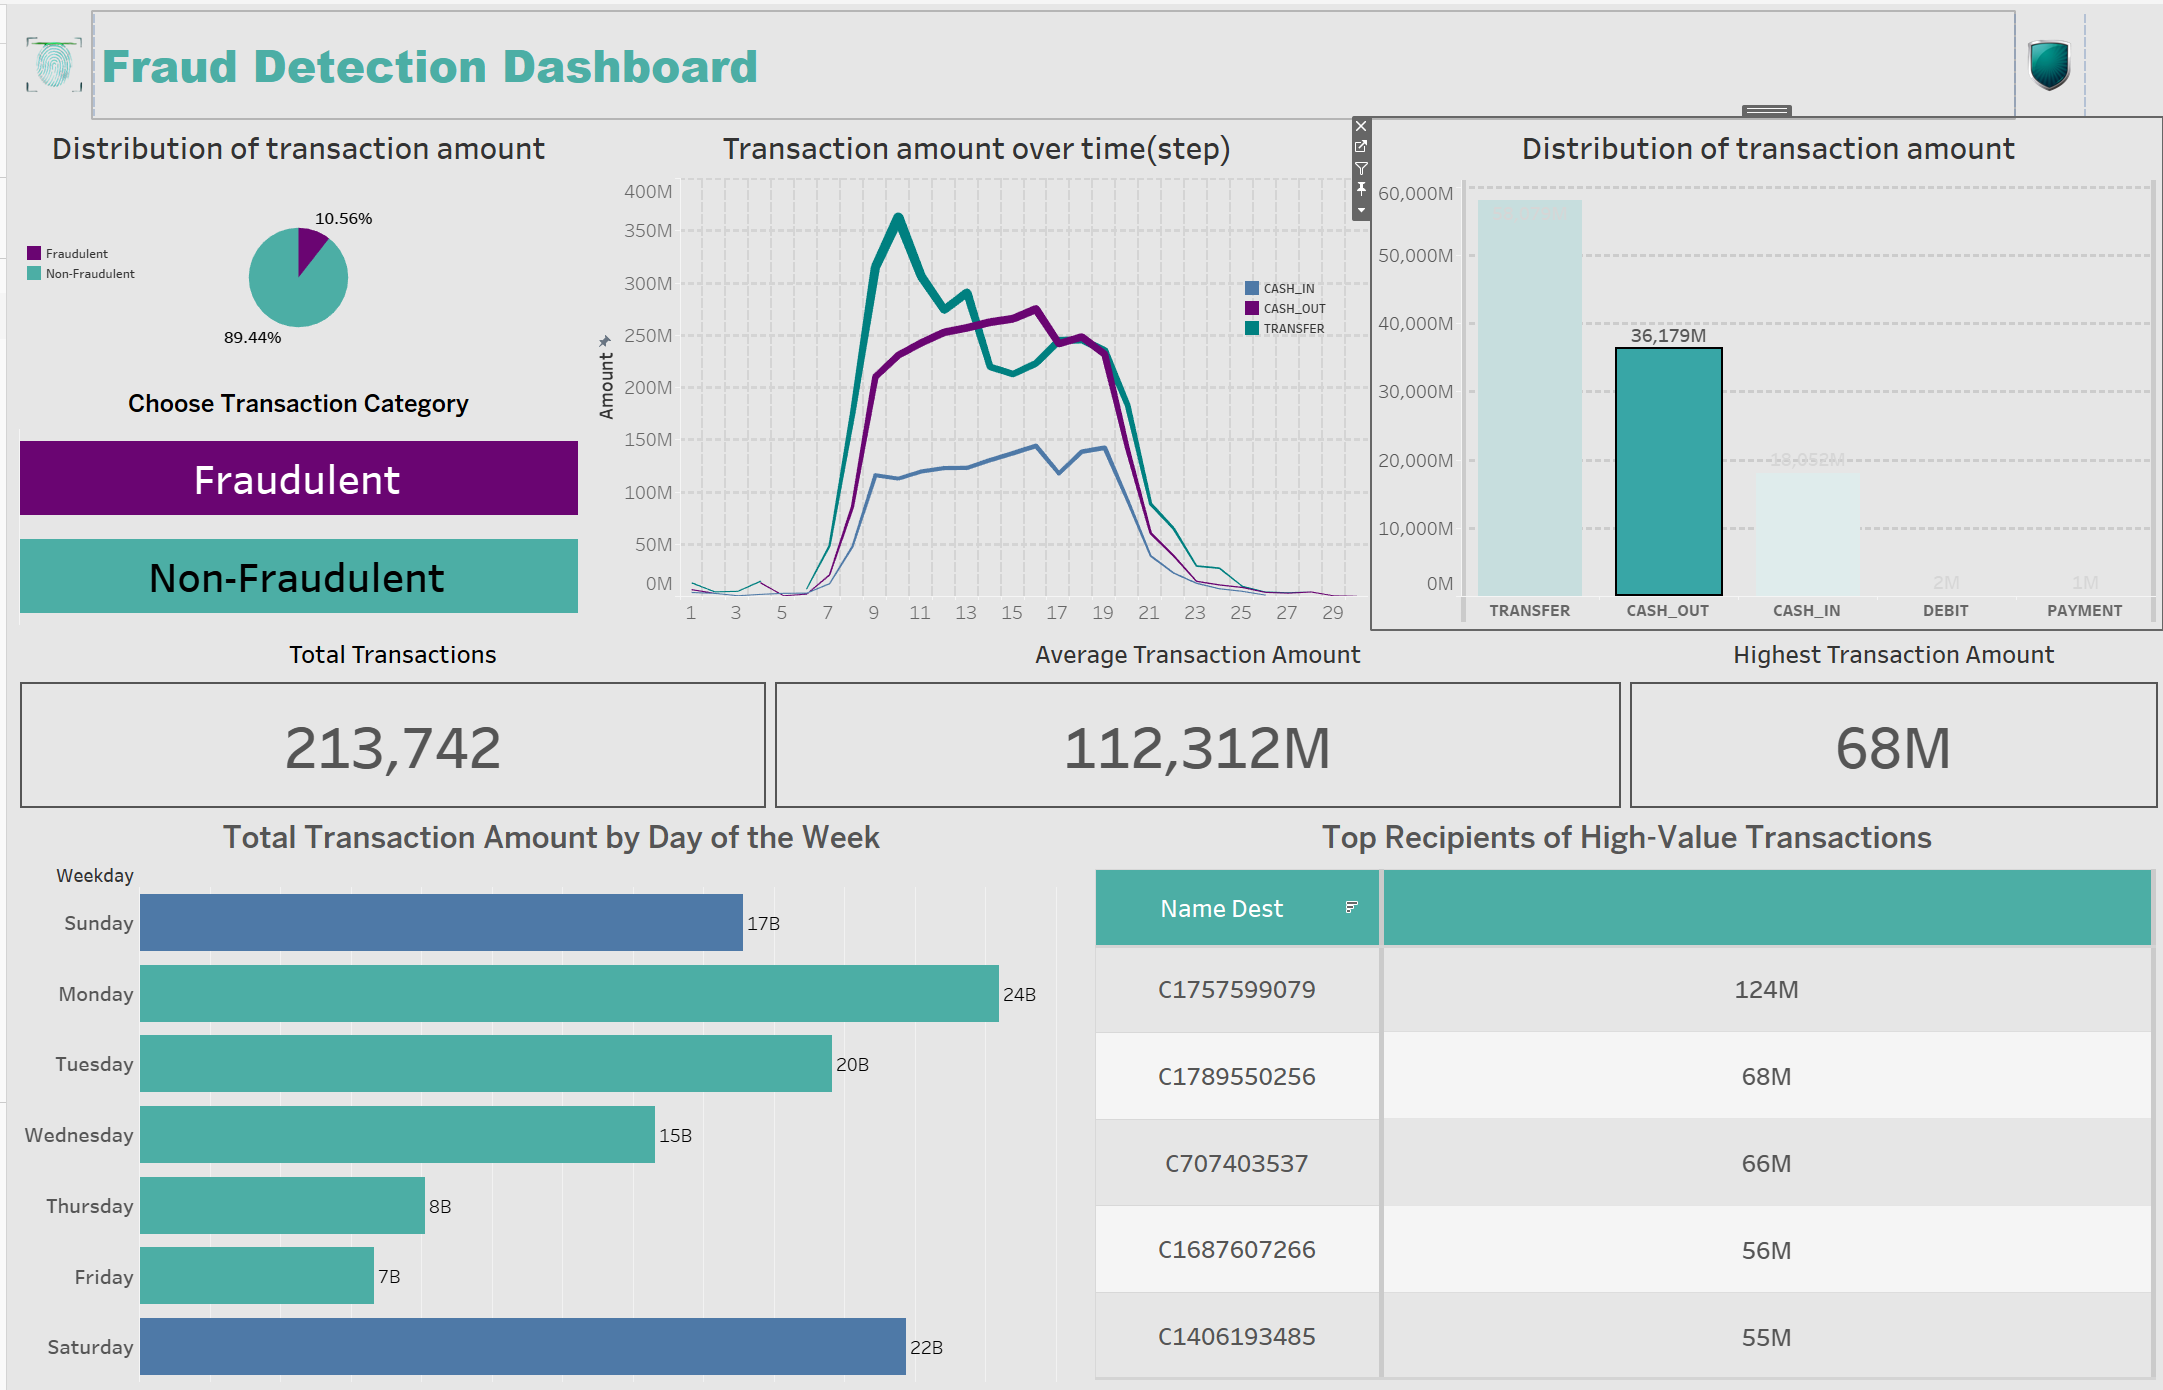

The page's visual inventory and layout, read from the dashboard file:
{"tool":"tableau","page":{"name":"Dashboard 1","canvas":[1000,1000],"units":"permille","ordinal":0},"visuals":[{"type":"image","param":"C:/Users/shaza/Downloads/download-removebg-preview.png","box":[3.7,5.8,36.1,76.2]},{"type":"text","box":[39.8,5.8,888.1,76.2]},{"type":"image","param":"C:/Users/shaza/Downloads/shielld-removebg-preview.png","box":[927.9,5.8,32.4,76.2]},{"type":"worksheet","title":"Sheet 5","mark":"Pie","box":[3.7,81.9,262.1,189.2]},{"type":"worksheet","title":"Sheet 2","mark":"Line","rows":["amount"],"cols":["step"],"box":[265.8,81.9,365.3,367.6]},{"type":"worksheet","title":"Sheet 1","mark":"Automatic","rows":["amount"],"cols":["type"],"box":[631,81.9,365.3,367.6]},{"type":"legend","title":"Sheet 5","param":"[federated.1x2flga0tkctff1gdu1tu0fxu429].[none:Calculation_155374245442441216:nk","box":[7.9,159,86,44.6]},{"type":"legend","title":"Sheet 2","param":"[federated.1x2flga0tkctff1gdu1tu0fxu429].[none:type:nk]","box":[571,184.2,55.5,77]},{"type":"worksheet","title":"filter","mark":"Automatic","rows":["Calculation_155374245442441216"],"cols":["Calculation_155374245775478788"],"box":[3.7,271.2,262.1,178.4]},{"type":"worksheet","title":"total trans","mark":"Text","box":[3.7,449.6,349,131.7]},{"type":"worksheet","title":"Average trans","mark":"Text","box":[352.7,449.6,395.4,131.7]},{"type":"worksheet","title":"highest fraud1","mark":"Text","box":[748.1,449.6,248.2,131.7]},{"type":"worksheet","title":"Sheet 4","mark":"Bar","rows":["Weekday"],"cols":["amount"],"box":[3.7,581.2,496.3,413]},{"type":"worksheet","title":"Sheet 11","mark":"Text","rows":["nameDest"],"box":[500,581.2,496.3,413]}]}

Visuals, with their boxes on the dashboard's canvas, which has no fixed pixel size, in thousandths of its width and height (x1, y1, x2, y2). These are canvas units, not pixel positions in the 2163x1390 screenshot, which may show the page scaled, cropped or inside an application window:
image: {"x1": 4, "y1": 6, "x2": 40, "y2": 82}
text: {"x1": 40, "y1": 6, "x2": 928, "y2": 82}
image: {"x1": 928, "y1": 6, "x2": 960, "y2": 82}
"Sheet 5" worksheet (Pie marks): {"x1": 4, "y1": 82, "x2": 266, "y2": 271}
"Sheet 2" worksheet (Line marks): {"x1": 266, "y1": 82, "x2": 631, "y2": 450}
"Sheet 1" worksheet: {"x1": 631, "y1": 82, "x2": 996, "y2": 450}
"Sheet 5" legend: {"x1": 8, "y1": 159, "x2": 94, "y2": 204}
"Sheet 2" legend: {"x1": 571, "y1": 184, "x2": 626, "y2": 261}
"filter" worksheet: {"x1": 4, "y1": 271, "x2": 266, "y2": 450}
"total trans" worksheet (Text marks): {"x1": 4, "y1": 450, "x2": 353, "y2": 581}
"Average trans" worksheet (Text marks): {"x1": 353, "y1": 450, "x2": 748, "y2": 581}
"highest fraud1" worksheet (Text marks): {"x1": 748, "y1": 450, "x2": 996, "y2": 581}
"Sheet 4" worksheet (Bar marks): {"x1": 4, "y1": 581, "x2": 500, "y2": 994}
"Sheet 11" worksheet (Text marks): {"x1": 500, "y1": 581, "x2": 996, "y2": 994}
